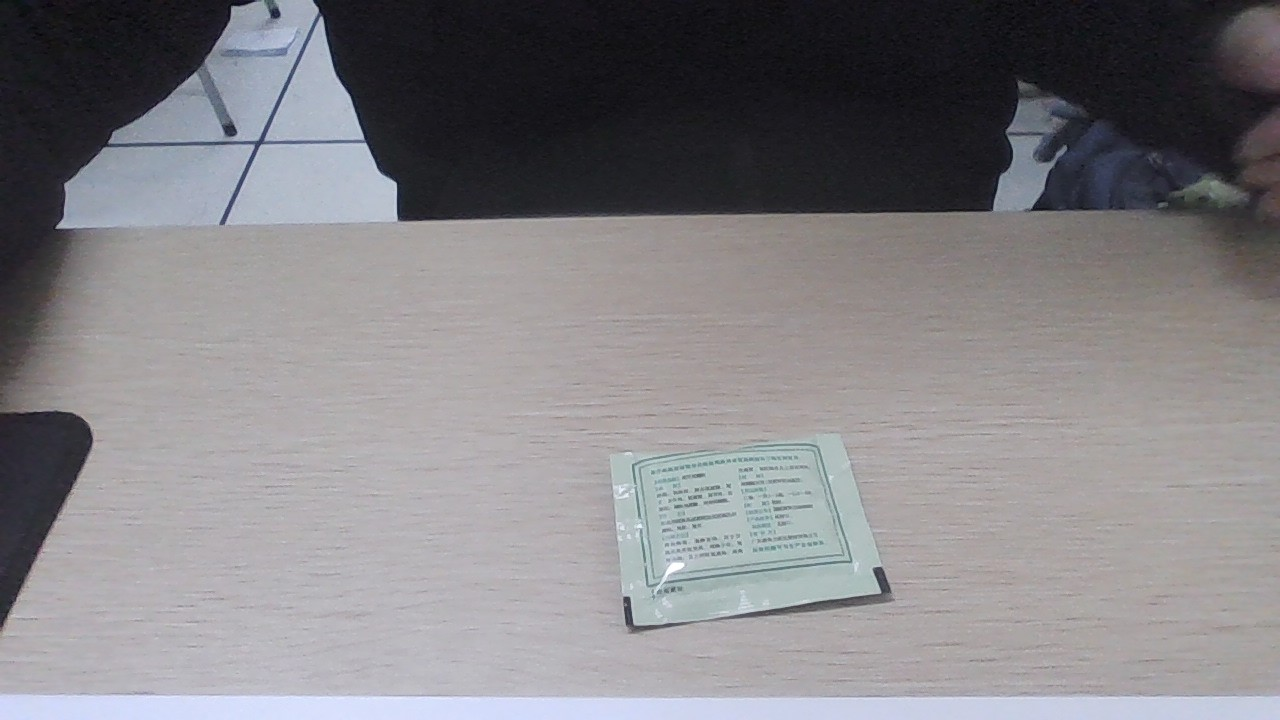YH-green medicine: (602, 453, 884, 608)
